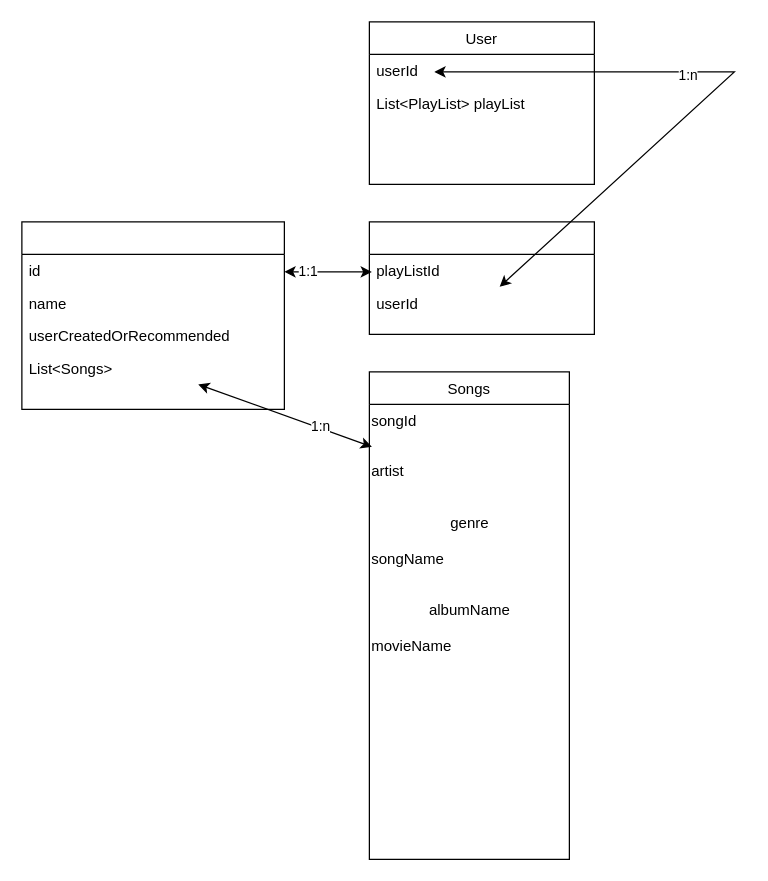
This 768x881 diagram has some shape labels left out. Each missing label, with the box of its shape:
PlayList: (21, 221, 284, 409)
UserPlayList: (368, 221, 594, 334)
